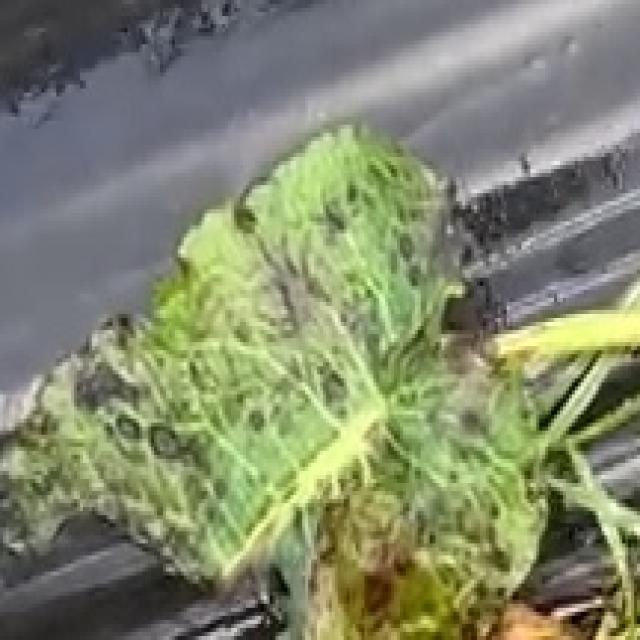organic waste: (15, 121, 637, 640)
